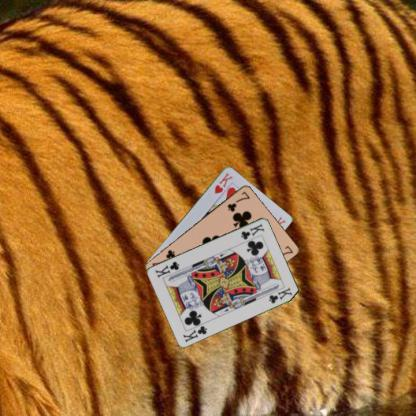7c: (225, 188, 251, 214)
Kc: (238, 221, 266, 241), (180, 323, 208, 343)
Kh: (211, 170, 234, 195)
